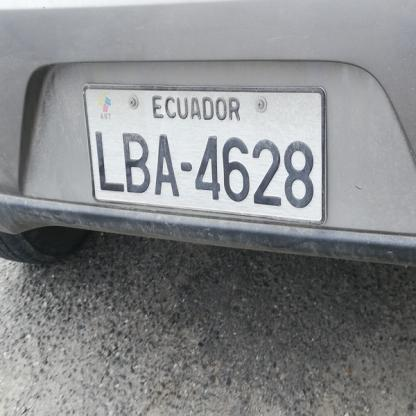Placa: (74, 76, 336, 230)
